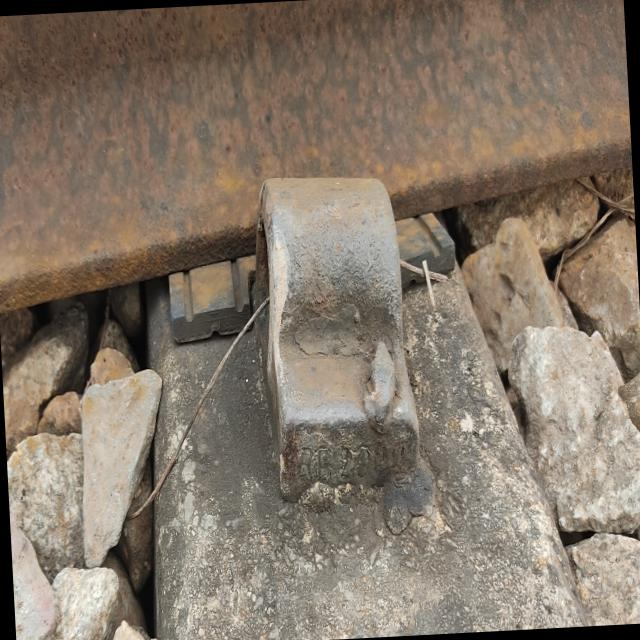track_bolt_missing: (247, 166, 408, 370)
